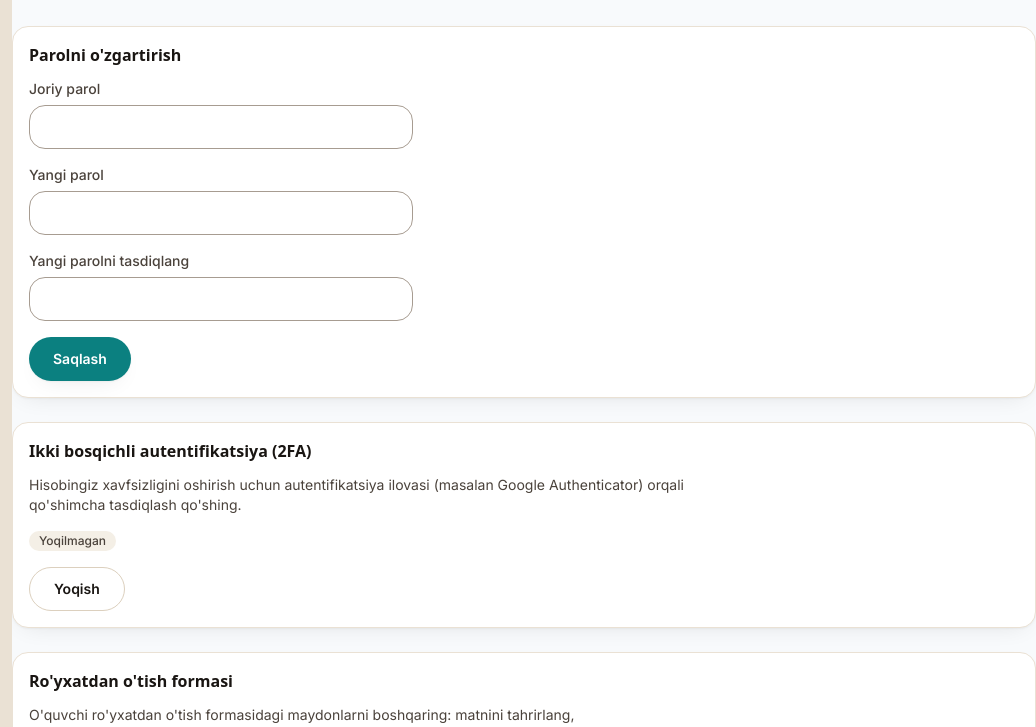
Scenario: SettingsPage › 'Yoqish' bosilganda QR kod, maxfiy kalit va tasdiqlash formasi ko'rsatiladi
Expected: the text "Yoqilmagan" is shown, [29,531,116,551]
Click the button "Yoqish".
click(77, 589)  # box [29,567,125,611]
(page scrolled)
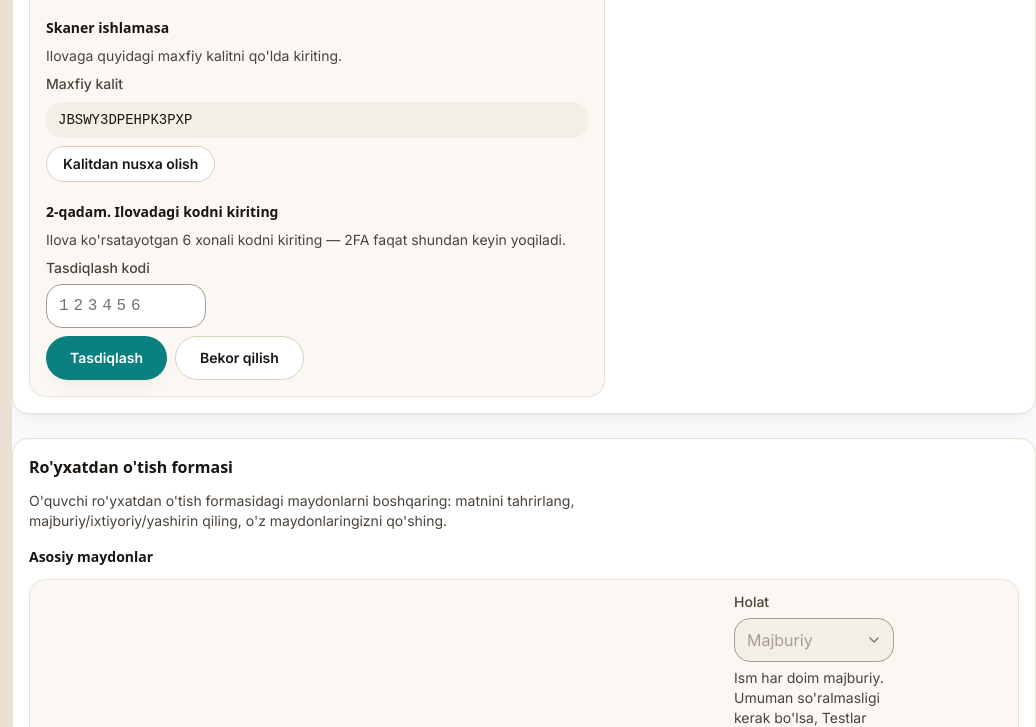
Expected: the text "JBSWY3DPEHPK3PXP" is shown, [46,102,588,138]
Expected: the field labelled "Tasdiqlash kodi" is shown, [46,284,206,328]
Expected: the button "Tasdiqlash" is shown, [46,336,167,380]
